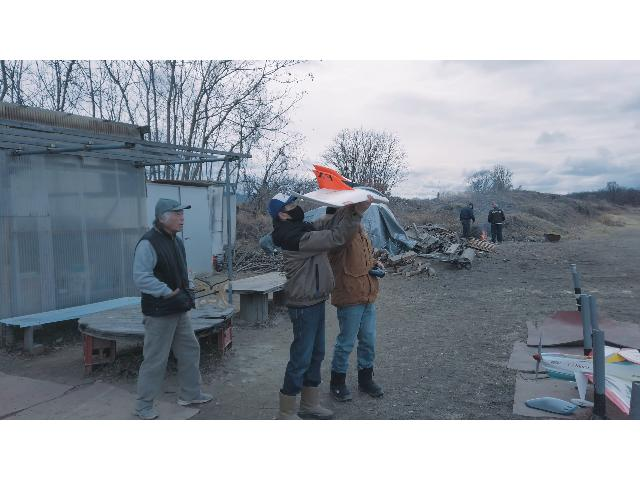Anti-Drone: (290, 158, 390, 209)
